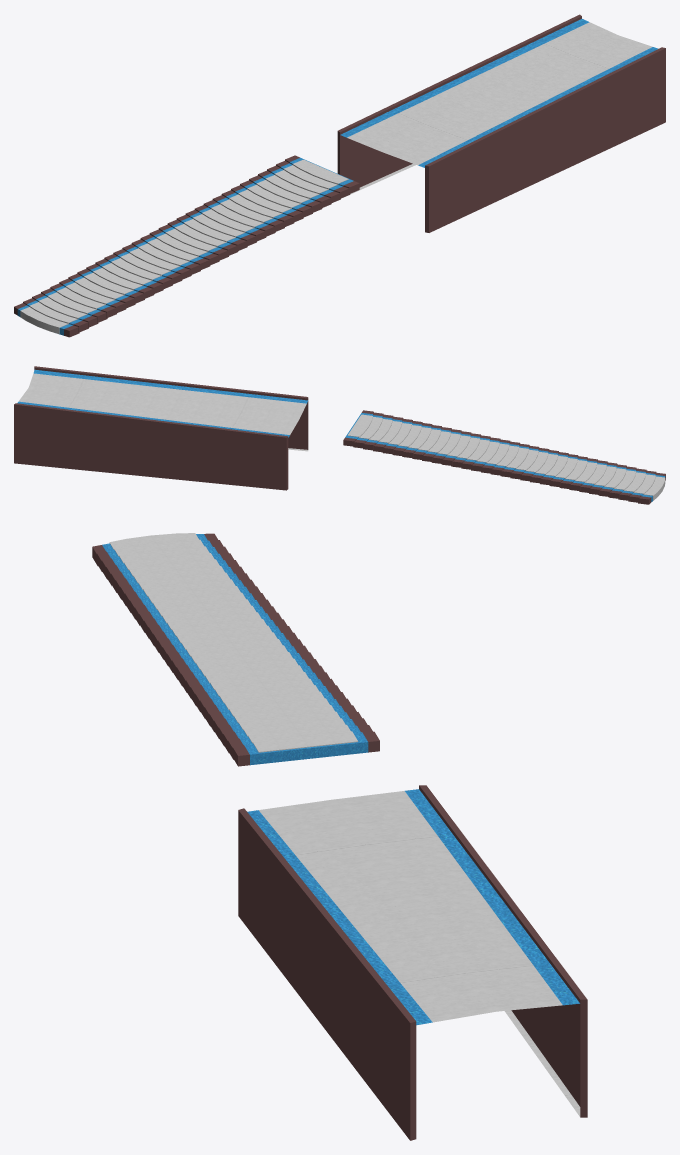
File: StairsWaterFall.fbx
3 renders of one model, top to bottom at view 1: azimuth 30°, elevation 25°; view 2: azimuth 150°, elevation 25°; view 3: azimuth 270°, elevation 25°, orthographic. The views are drawn at different scales.
Visible parts, largest first — view 1: Object034, Box006, Object005, Object032; view 2: Object034, Box006, Object005, Object032; view 3: Object034, Box006, Object005, Object032.
Part boxes in pixels (x1,y1,x2,y2): Object034: [337, 14, 665, 232]; Box006: [14, 155, 359, 337]; Object005: [340, 19, 658, 167]; Object032: [17, 157, 353, 335]; Object034: [14, 366, 308, 490]; Box006: [343, 410, 665, 504]; Object005: [17, 369, 308, 437]; Object032: [345, 413, 665, 501]; Object034: [238, 785, 587, 1140]; Box006: [92, 533, 379, 766]; Object005: [247, 789, 579, 1025]; Object032: [102, 534, 368, 754].
Bounding box in the file's own units: 2250 × 224 × 853.
